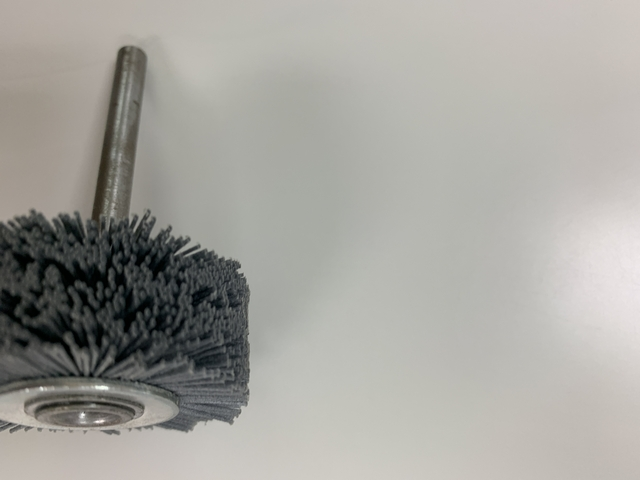Wheel Brush: (1, 33, 255, 438), (1, 47, 251, 446)
